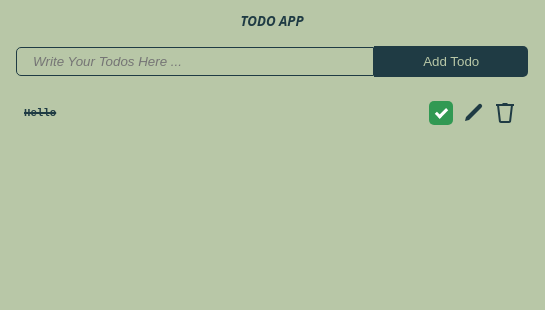
when click on the edit , edit section display , and we can edit todos
Click the 1st icon.
click(474, 113)  # box [462, 101, 486, 125]
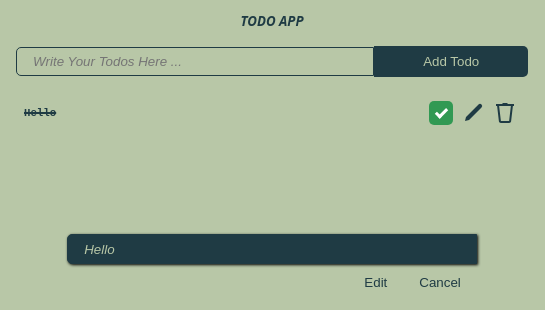
Expected: the element with id "editing" is shown, [67, 234, 477, 293]
Type " im changing this todo" into the field with id "todo_input".
click(272, 249); type(" im changing this todo")  # box [67, 234, 477, 264]
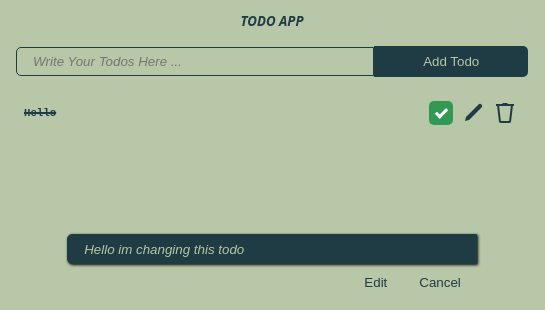
Click the button "Edit".
click(376, 283)  # box [348, 272, 403, 293]
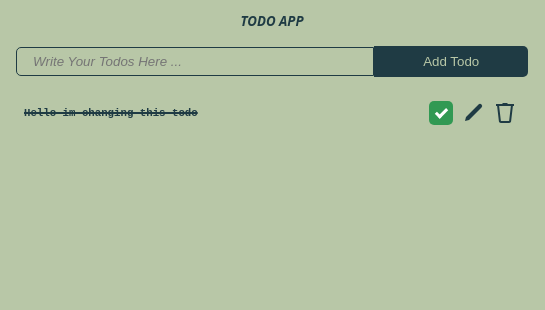
Expected: the heading with id "todos_holder" shows "im changing this todo", [24, 107, 198, 119]
